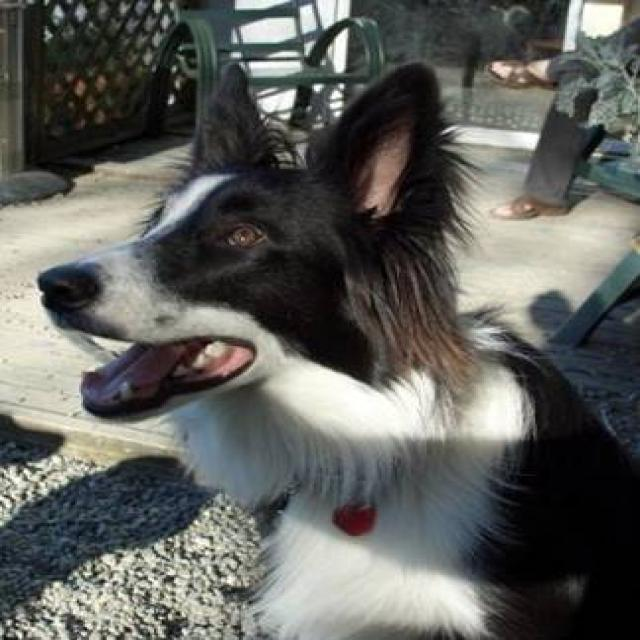dog: (34, 59, 638, 638)
